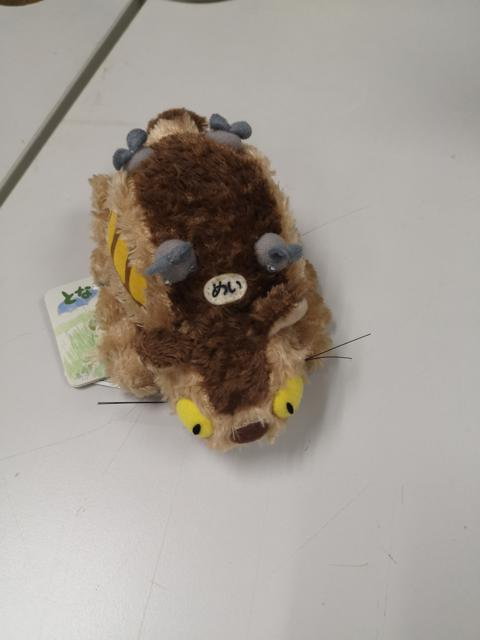nekobus: (82, 100, 372, 459)
